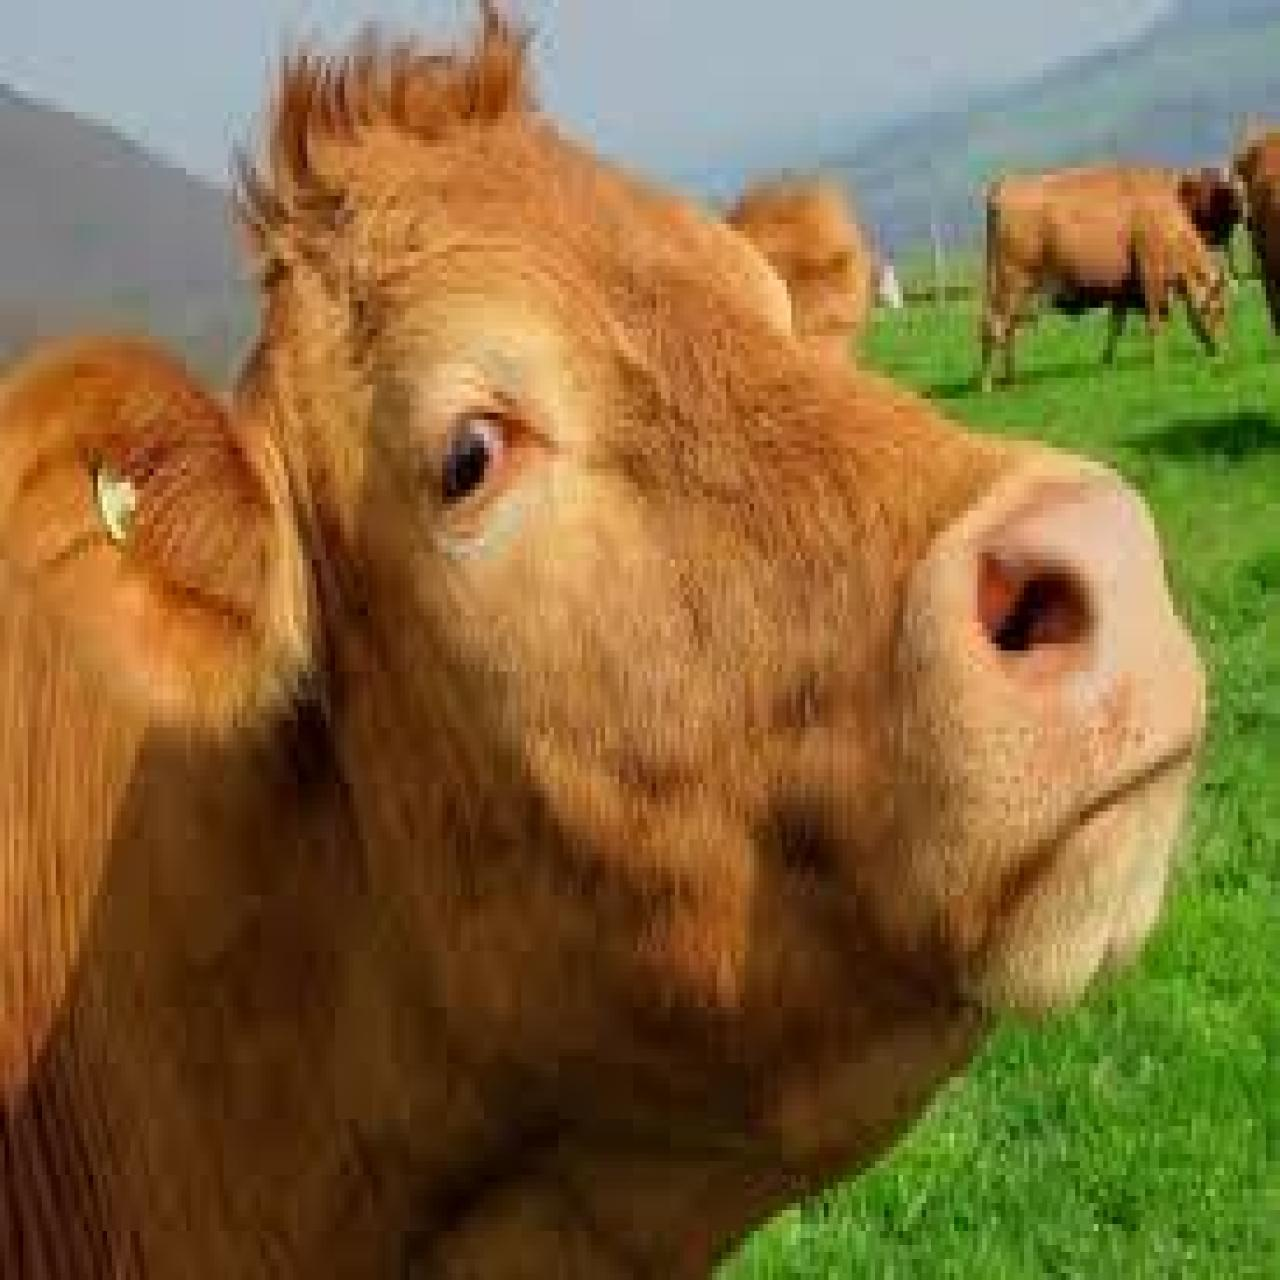cow: (0, 63, 1206, 1273), (978, 164, 1233, 395), (1238, 116, 1280, 374)
